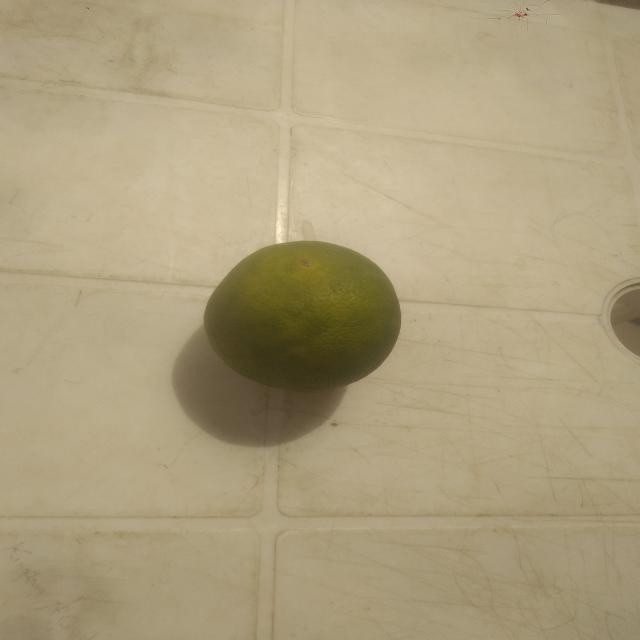agrume: (193, 226, 402, 405)
